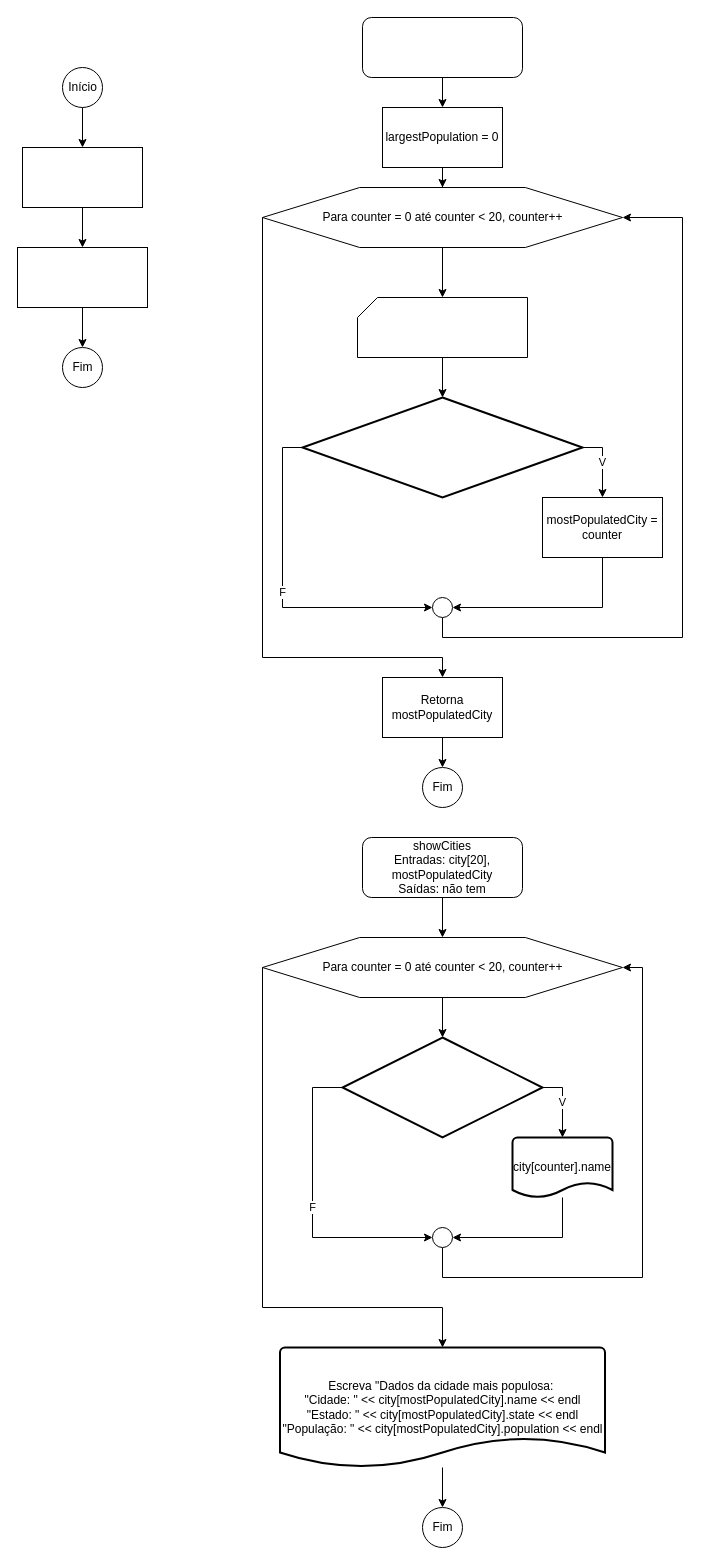
Image size: 708x1565. Some labels were removed from this diagram. The shapes that lost their labels are listed below. From the top down, each one's centre as x and y in pixels, then its label:
(442,47): cityRegister Entradas: city[20] Saídas: mostPopulatedCity
(82,177): cityRegister(city)
(82,277): showCities(city, mostPopulatedCity)
(442,327): city[counter].name city[counter].state city[counter].population
(442,447): (city[counter].population > largestPopulation)
(442,1087): (city[counter].state == "Paraná")
